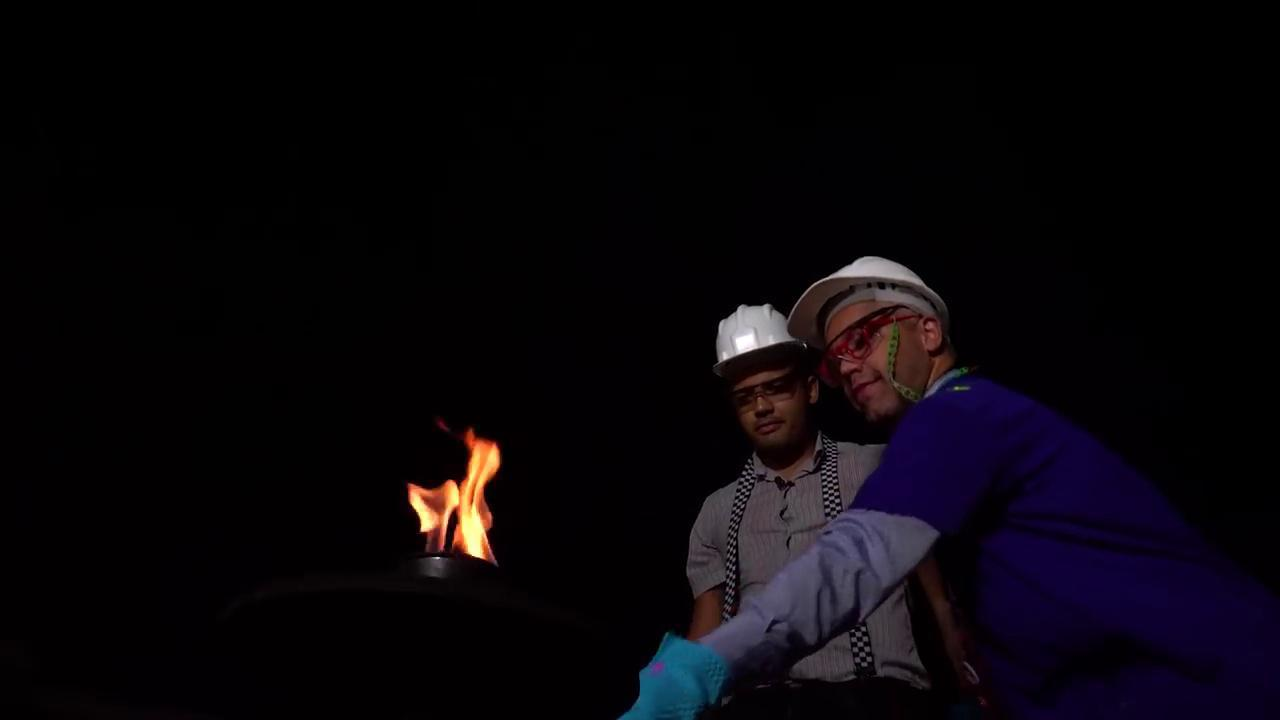Fire: (409, 419, 510, 553)
